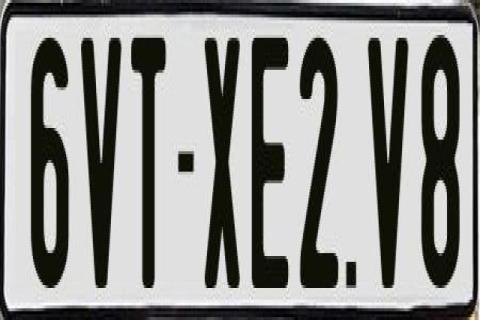0: (419, 26, 460, 294), (300, 32, 340, 288), (30, 32, 68, 296)
E: (248, 29, 290, 288)
T: (131, 32, 167, 285)
V: (78, 32, 121, 294), (367, 29, 409, 279)
X: (204, 35, 242, 303)
